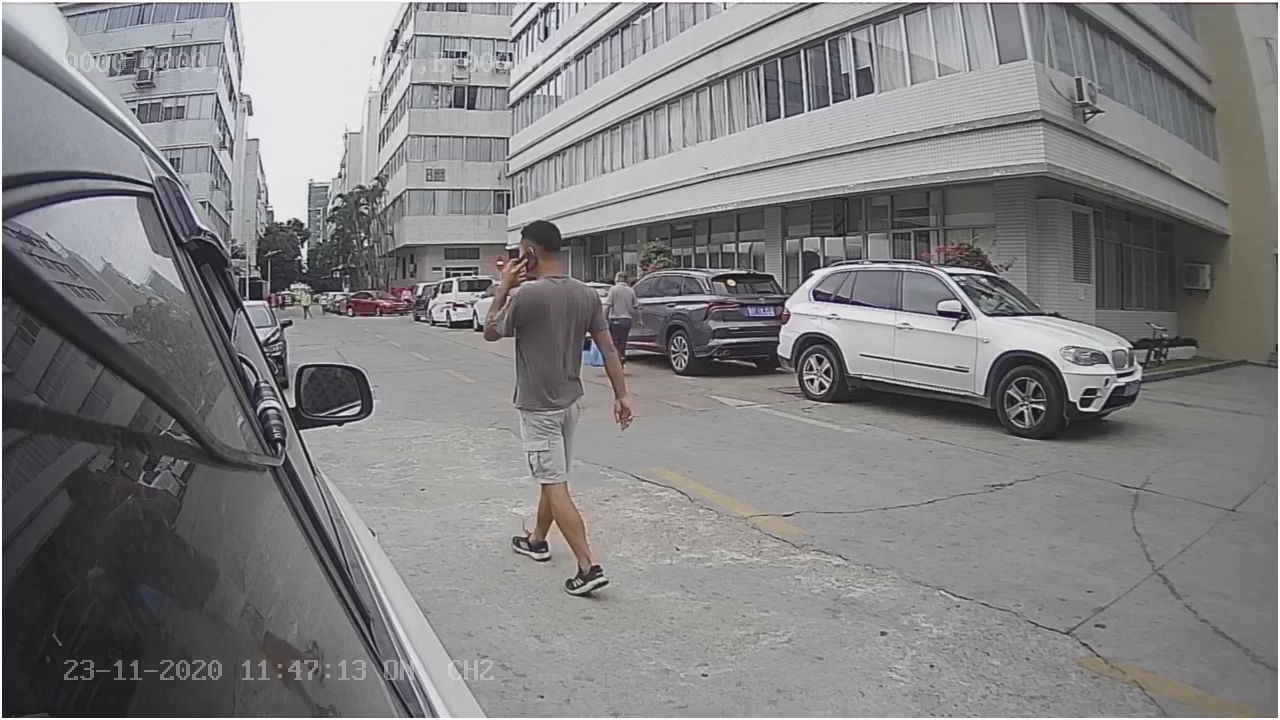person: (485, 214, 626, 596)
